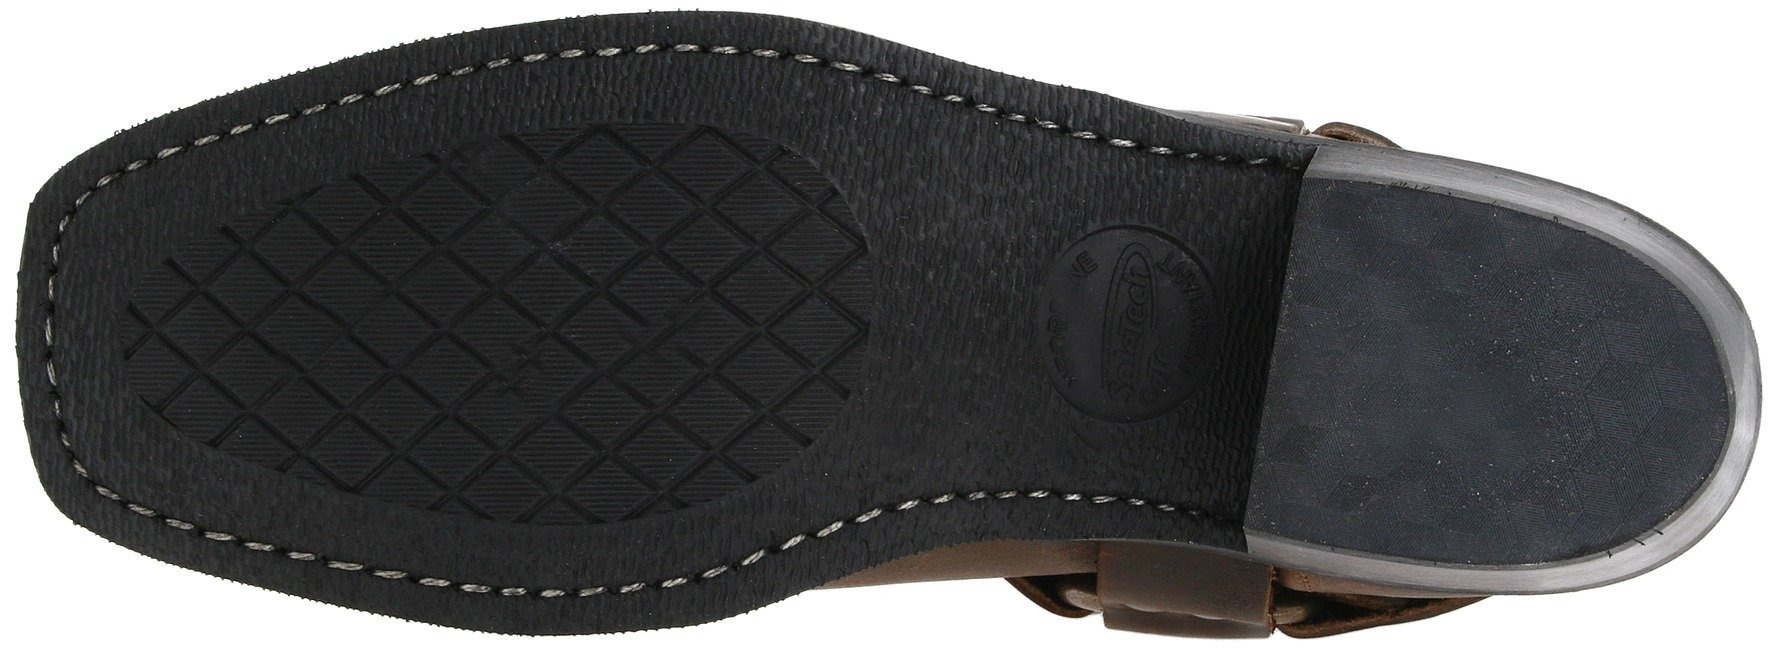circle: (1008, 207, 1239, 443)
other: (1272, 198, 1632, 549), (870, 101, 1052, 279)
quad: (398, 143, 768, 501), (193, 236, 405, 441)
ribbon: (839, 426, 979, 556), (25, 282, 105, 363)
text: (1008, 207, 1239, 443)
